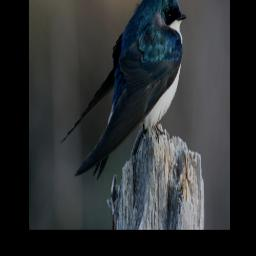Swallow: (59, 0, 186, 180)
